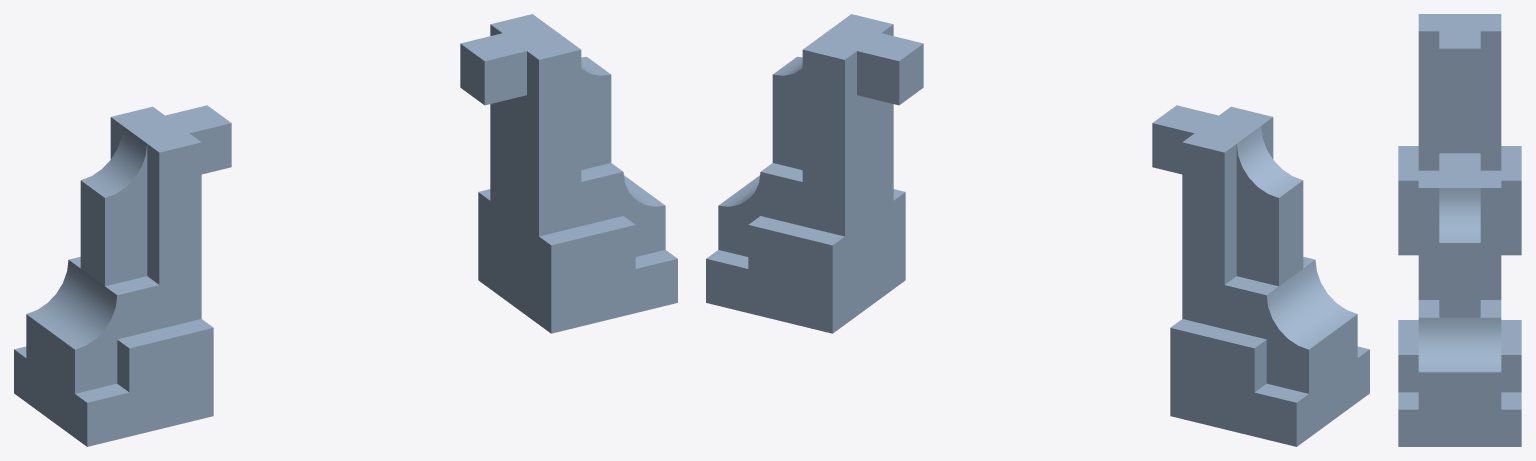
The model's file is machineGunArms.glb.
3 views of the same model, side by side, from view 1: azimuth 30°, elevation 25°; view 2: azimuth 150°, elevation 25°; view 3: azimuth 270°, elevation 25° (orthographic). The views are drawn at different scales.
Parts seen in each view (by area): view 1: generated(Clone); view 2: generated(Clone); view 3: generated(Clone).
Boxes of the visible parts, x1,y1,x2,y2 form: generated(Clone): [14, 14, 677, 446]; generated(Clone): [706, 14, 1369, 446]; generated(Clone): [1398, 14, 1521, 446].
Bounding box in the file's own units: 14 × 6 × 3.
